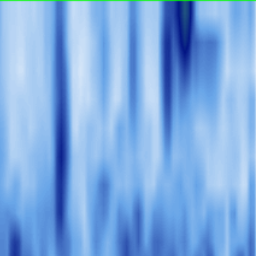defect: (56, 36, 67, 246), (175, 1, 196, 86), (161, 4, 171, 125), (7, 228, 20, 256)
